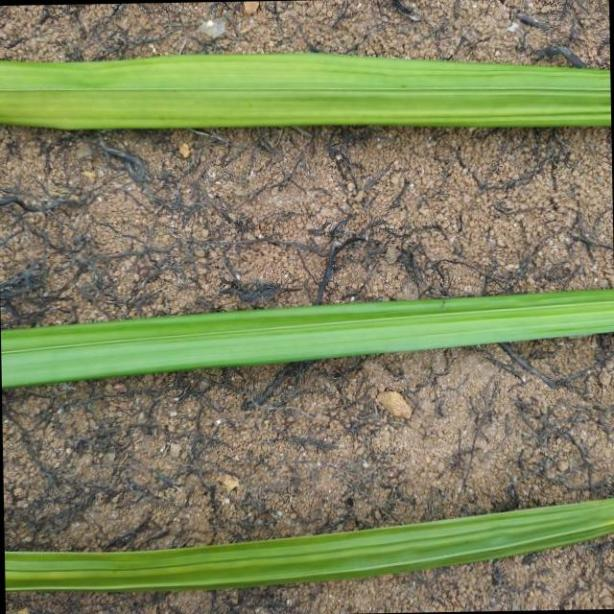nitrogen: (0, 282, 614, 394), (0, 494, 614, 593), (0, 46, 614, 136)
